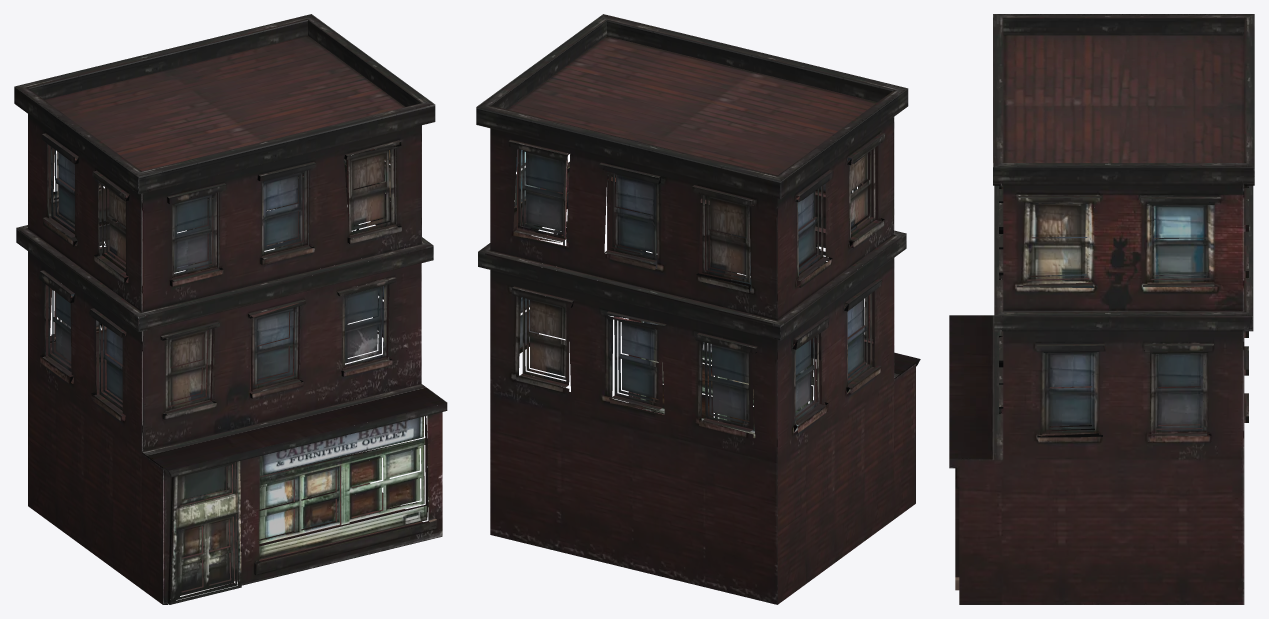
File: bldg_terrace.glb
3 renders of one model, left to right at view 1: azimuth 30°, elevation 25°; view 2: azimuth 150°, elevation 25°; view 3: azimuth 270°, elevation 25°, orthographic. The views are drawn at different scales.
Visible parts, largest first — view 1: Cube_Material.003_0, Cube_Material.006_0, Cube_Material.007_0, Cube_Material.004_0, Cube_Material.008_0, Cube_Material.005_0; view 2: Cube_Material.004_0, Cube_Material.006_0, Cube_Material.007_0, Cube_Material.003_0, Cube_Material.005_0, Cube_Material.008_0; view 3: Cube_Material.005_0, Cube_Material.007_0, Cube_Material.006_0, Cube_Material.003_0, Cube_Material.008_0.
Boxes of the visible parts, x1,y1,x2,y2 form: Cube_Material.003_0: [28, 20, 447, 604]; Cube_Material.006_0: [14, 20, 428, 604]; Cube_Material.007_0: [15, 14, 446, 595]; Cube_Material.004_0: [46, 145, 303, 420]; Cube_Material.008_0: [44, 141, 422, 604]; Cube_Material.005_0: [164, 125, 421, 586]; Cube_Material.004_0: [476, 20, 893, 604]; Cube_Material.006_0: [490, 20, 915, 604]; Cube_Material.007_0: [477, 14, 920, 431]; Cube_Material.003_0: [571, 146, 920, 437]; Cube_Material.005_0: [513, 150, 870, 401]; Cube_Material.008_0: [513, 154, 873, 439]; Cube_Material.005_0: [949, 18, 1254, 604]; Cube_Material.007_0: [949, 14, 1254, 577]; Cube_Material.006_0: [1017, 198, 1218, 437]; Cube_Material.003_0: [955, 201, 1219, 590]; Cube_Material.008_0: [1026, 203, 1248, 422].
Size of the model in its own units: 453 by 609 by 381.
Materials: 6 (6 with a texture image).
